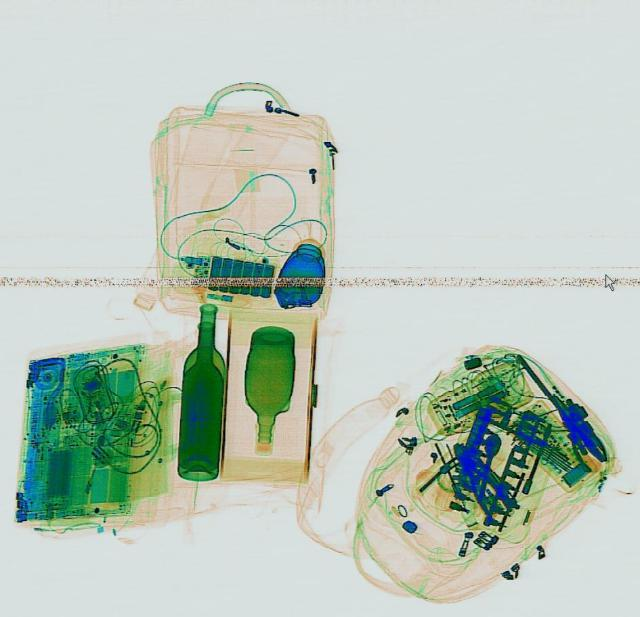Pliers: (438, 435, 520, 521), (539, 389, 615, 475)
